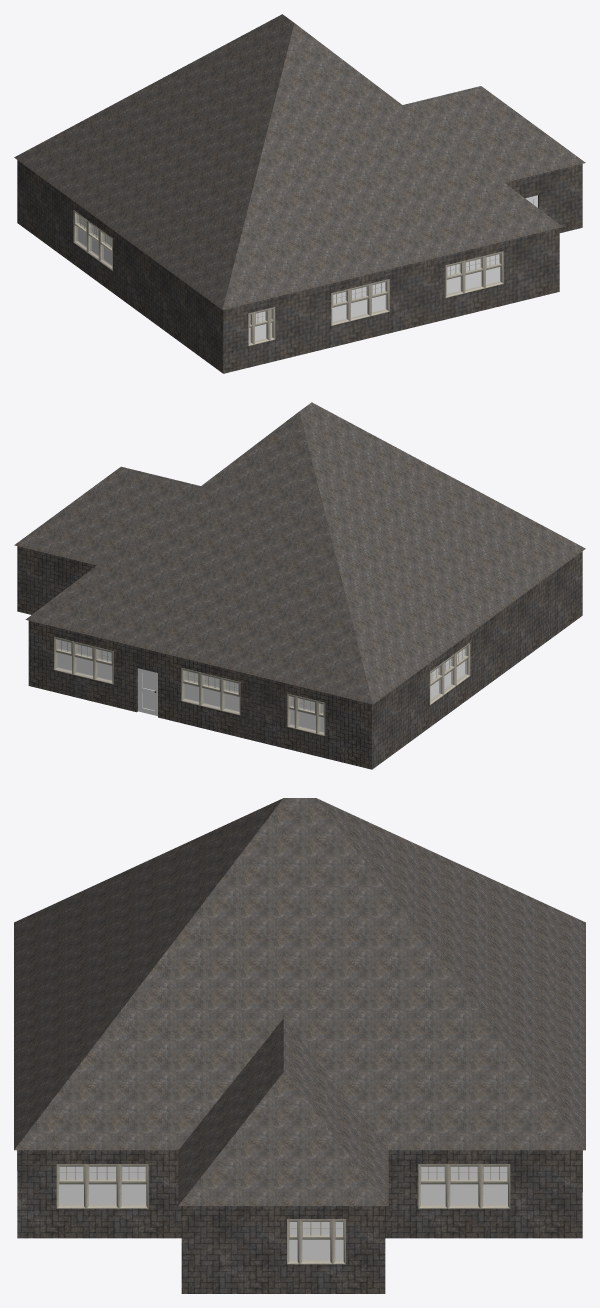
Rendered from RandomHouseOutside02.fbx.
3 views of the same model, one above another, from view 1: azimuth 30°, elevation 25°; view 2: azimuth 150°, elevation 25°; view 3: azimuth 270°, elevation 25° (orthographic). The views are drawn at different scales.
Parts seen in each view (by area): view 1: Slanted Roof, Outside Plain Wall (Floor 1), FancyWindow_stretched (×9), BuildingFiller; view 2: Slanted Roof, Outside Plain Wall (Floor 1), FancyWindow_stretched (×9), BuildingFiller, generic_door; view 3: Slanted Roof, Outside Plain Wall (Floor 1), FancyWindow_stretched (×7), BuildingFiller.
Boxes of the visible parts, bbox=[...] form: Slanted Roof: bbox=[14, 14, 585, 309]; Outside Plain Wall (Floor 1): bbox=[17, 160, 582, 373]; FancyWindow_stretched (×9): bbox=[73, 210, 503, 344]; BuildingFiller: bbox=[78, 216, 499, 341]; Slanted Roof: bbox=[14, 402, 585, 704]; Outside Plain Wall (Floor 1): bbox=[17, 546, 582, 769]; FancyWindow_stretched (×9): bbox=[54, 636, 470, 733]; BuildingFiller: bbox=[58, 640, 464, 731]; generic_door: bbox=[138, 668, 157, 715]; Slanted Roof: bbox=[14, 798, 585, 1205]; Outside Plain Wall (Floor 1): bbox=[17, 1150, 582, 1293]; FancyWindow_stretched (×7): bbox=[56, 1164, 510, 1264]; BuildingFiller: bbox=[59, 1166, 507, 1259].
Bounding box in the file's own units: 20.4 × 11 × 17.4.
